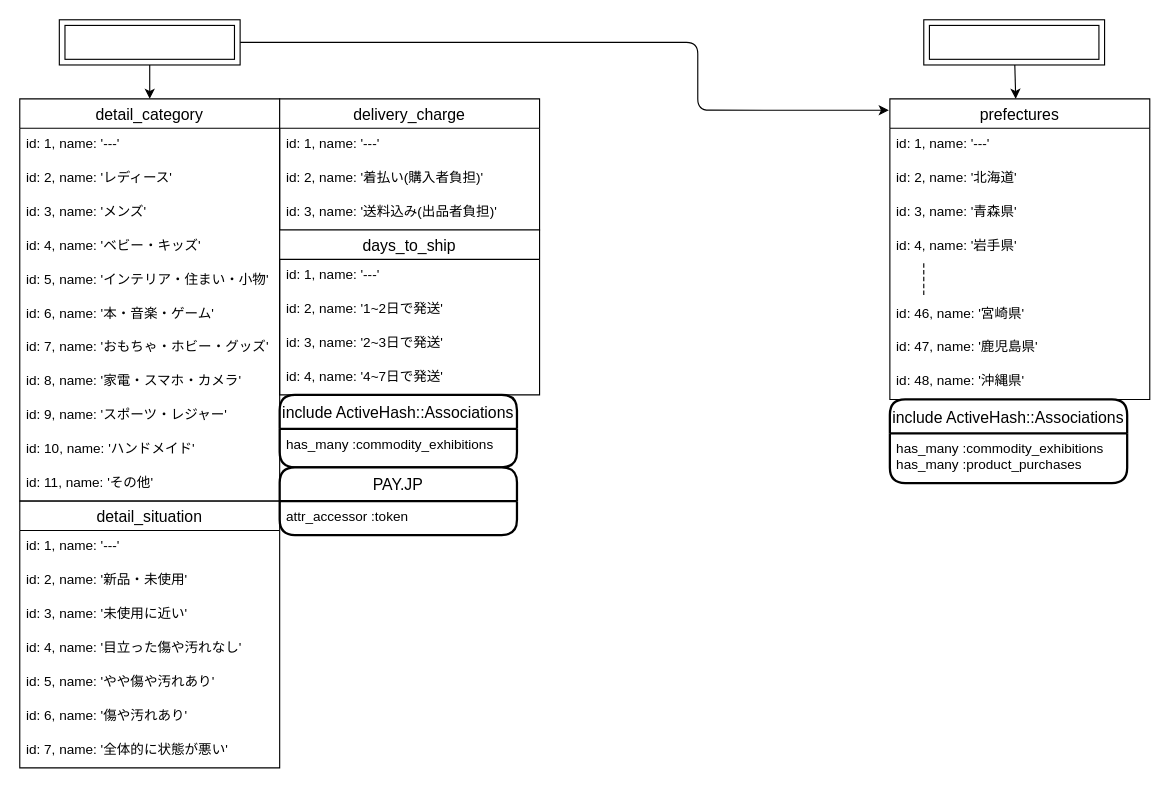
Image size: 1170x791. Some labels were removed from this diagram. The centre of each missing label's shape, as x and y in pixels:
"commodity_exhibitions" belongs at point 149,42.
"product_purchases" belongs at point 1014,42.
